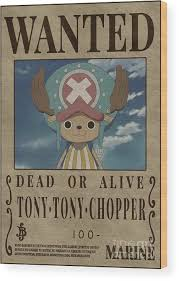chopper: (28, 60, 133, 147)
